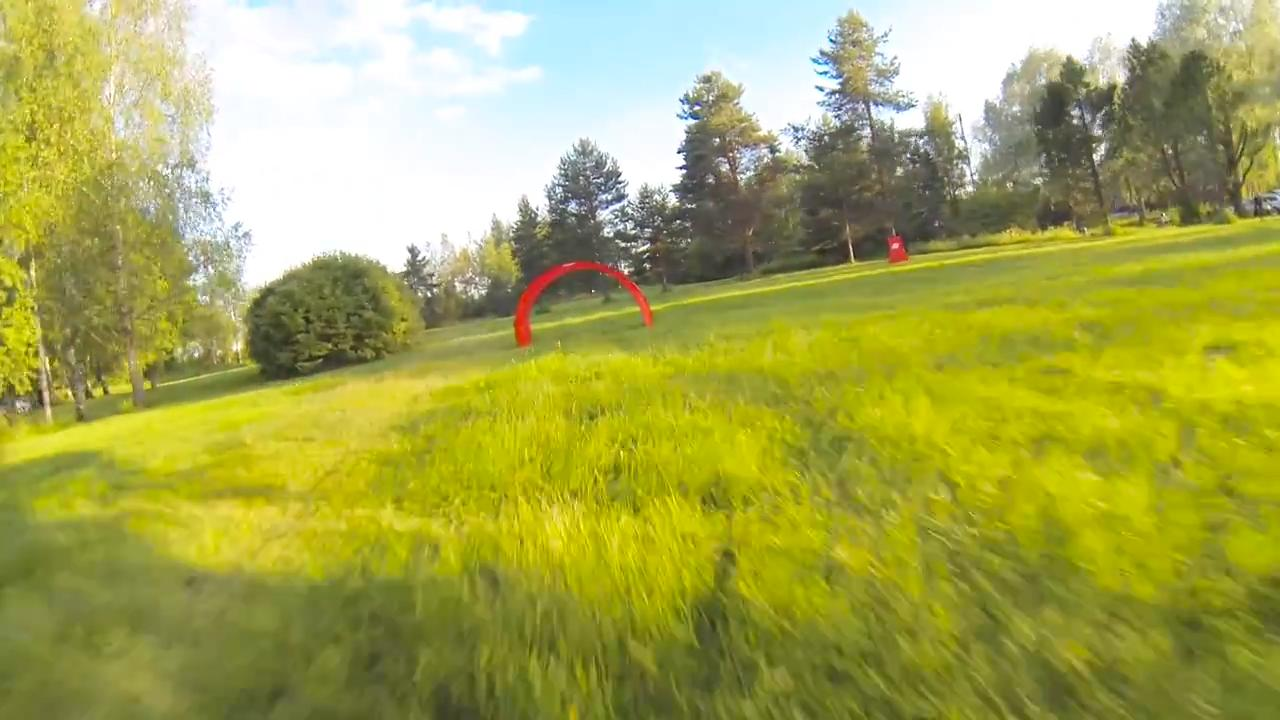gate: (511, 259, 659, 346)
